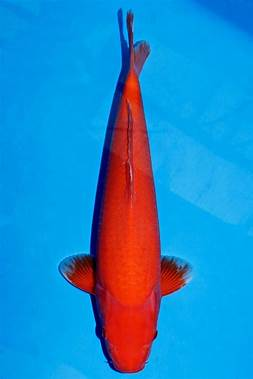red: (59, 9, 194, 373)
